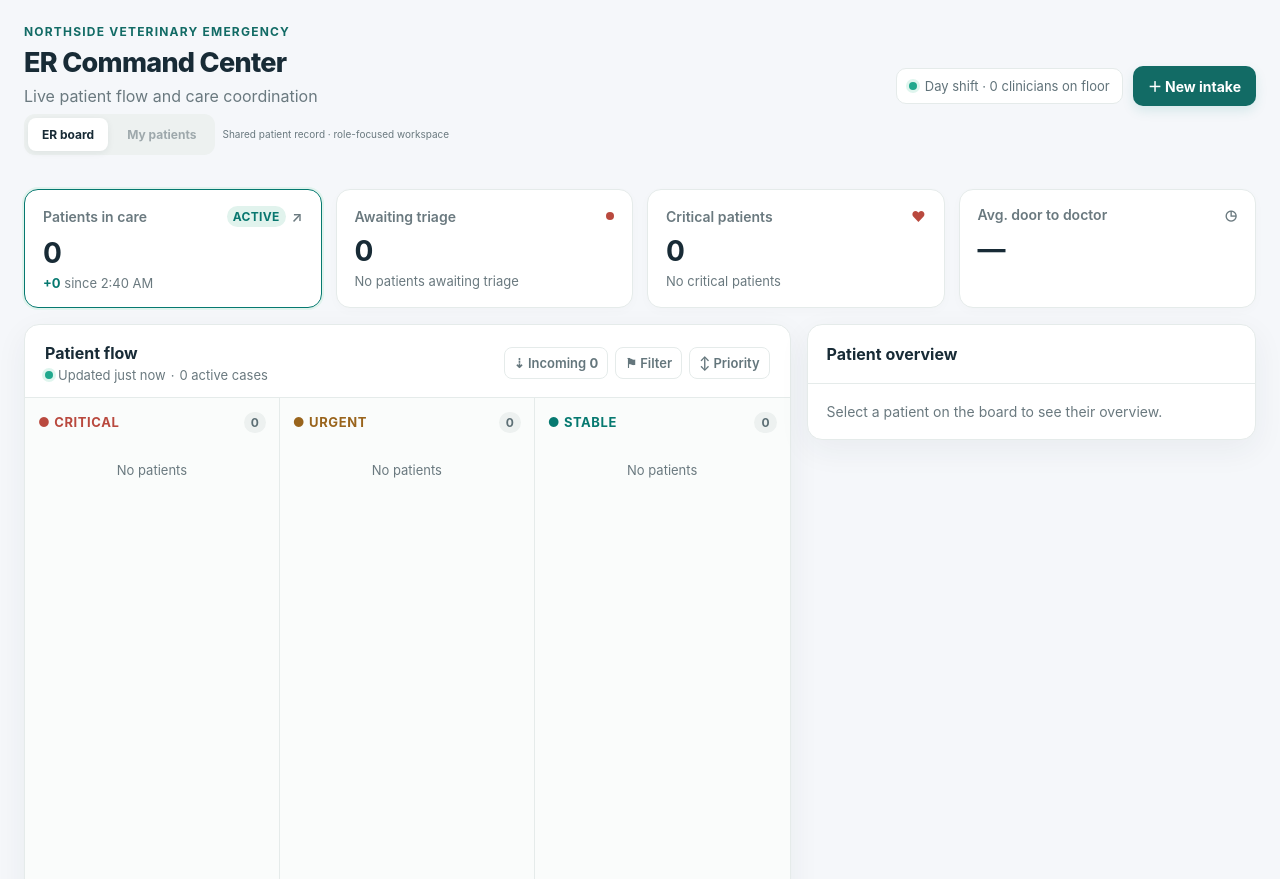
Test: ErBoardPage › adds an intake to the board, selects it and says so
The image size is (1280, 879).
Click the button "＋ New intake".
click(1194, 86)  # box [1133,66,1256,106]
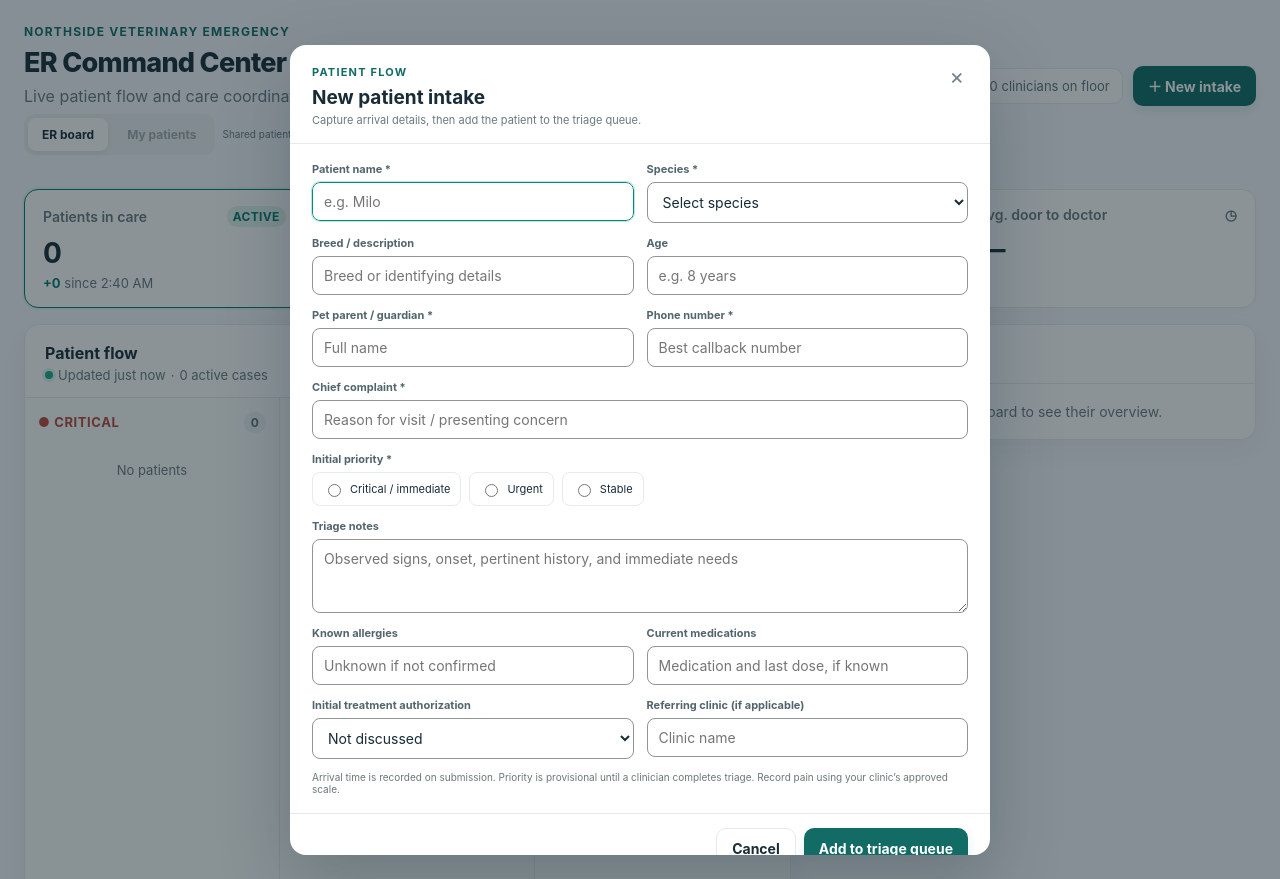
Type "Toby" into the field labelled "Patient name *".
click(473, 202); type("Toby")  # box [312,182,634,221]
Select "Dog" in the dropdown labelled "Species *" at (807, 202), box [646,182,968,223]
Type "Jo Mills" into the field labelled "Pet parent / guardian *".
click(473, 348); type("Jo Mills")  # box [312,328,634,367]
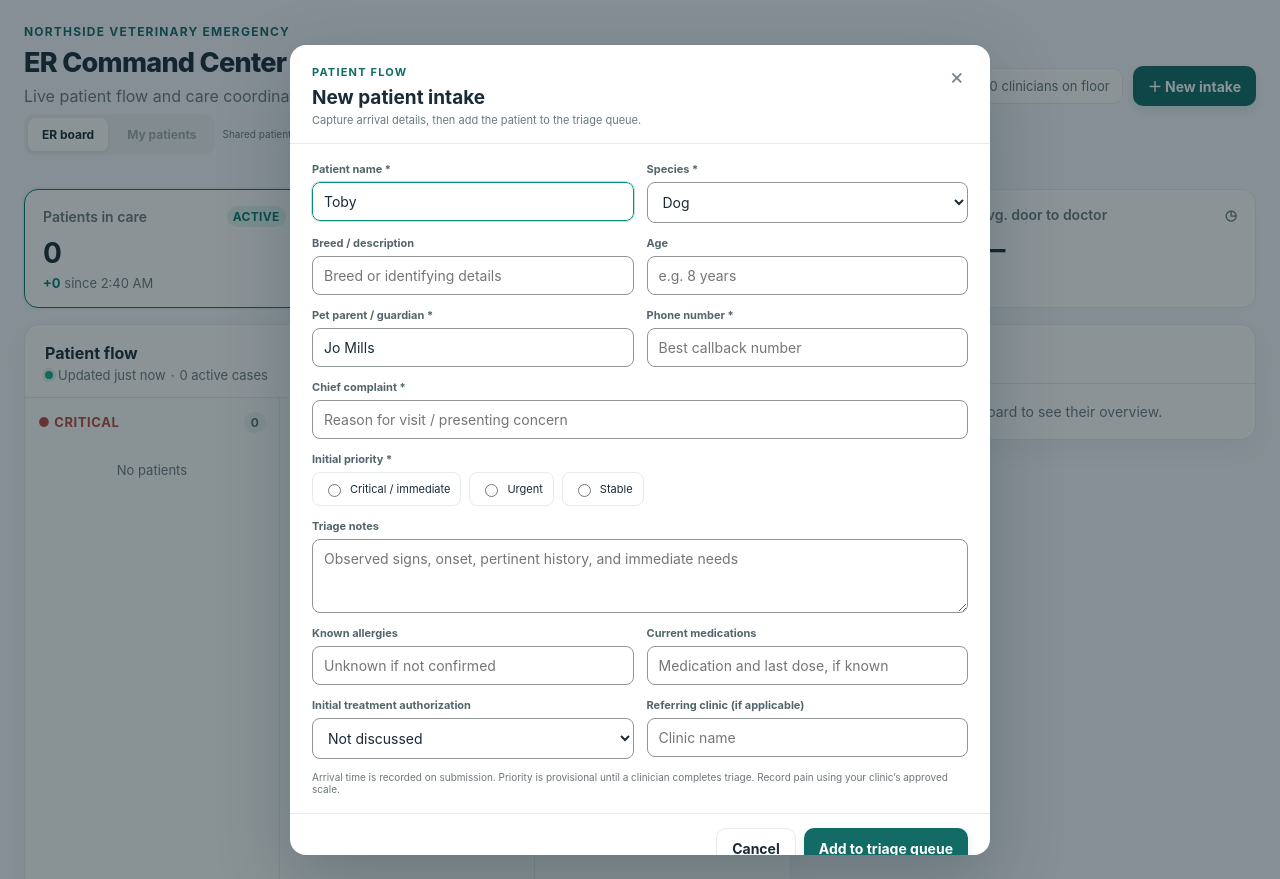
Type "312-555-0177" into the field labelled "Phone number *".
click(807, 348); type("312-555-0177")  # box [646,328,968,367]
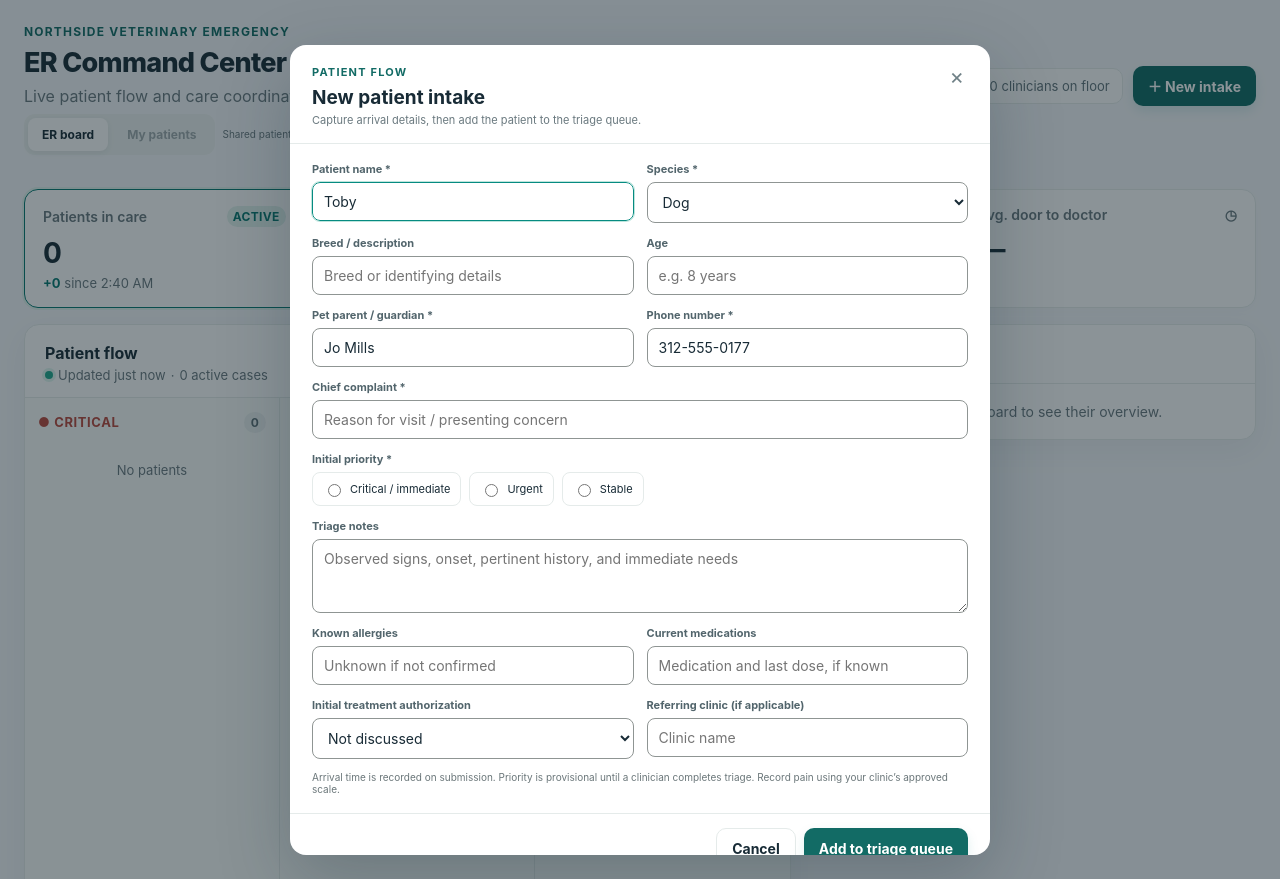
Type "Acute vomiting" into the field labelled "Chief complaint *".
click(640, 420); type("Acute vomiting")  # box [312,400,968,439]
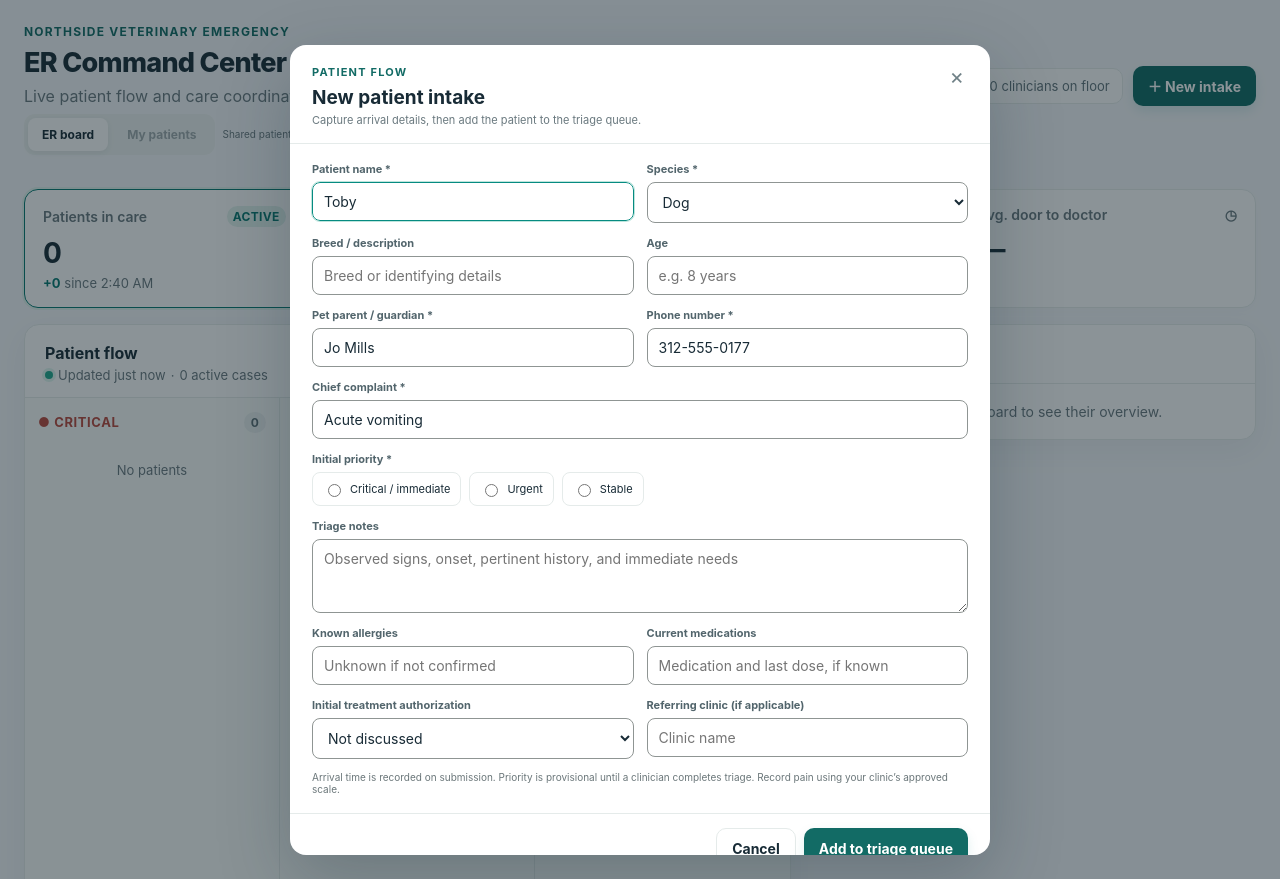
Click the radio button labelled "Urgent".
click(492, 490)  # box [485,484,498,497]
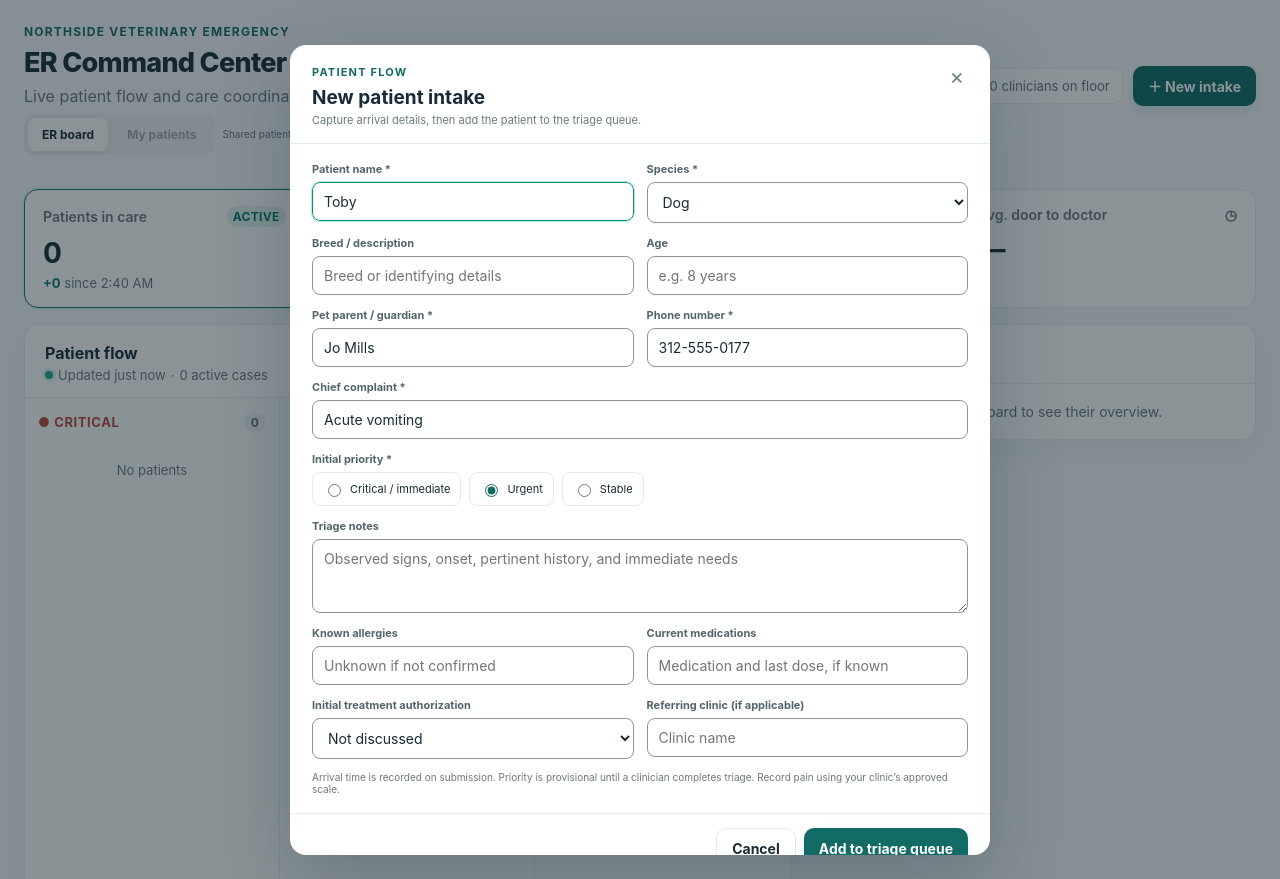
Click the button "Add to triage queue".
click(886, 848)  # box [804,828,968,868]
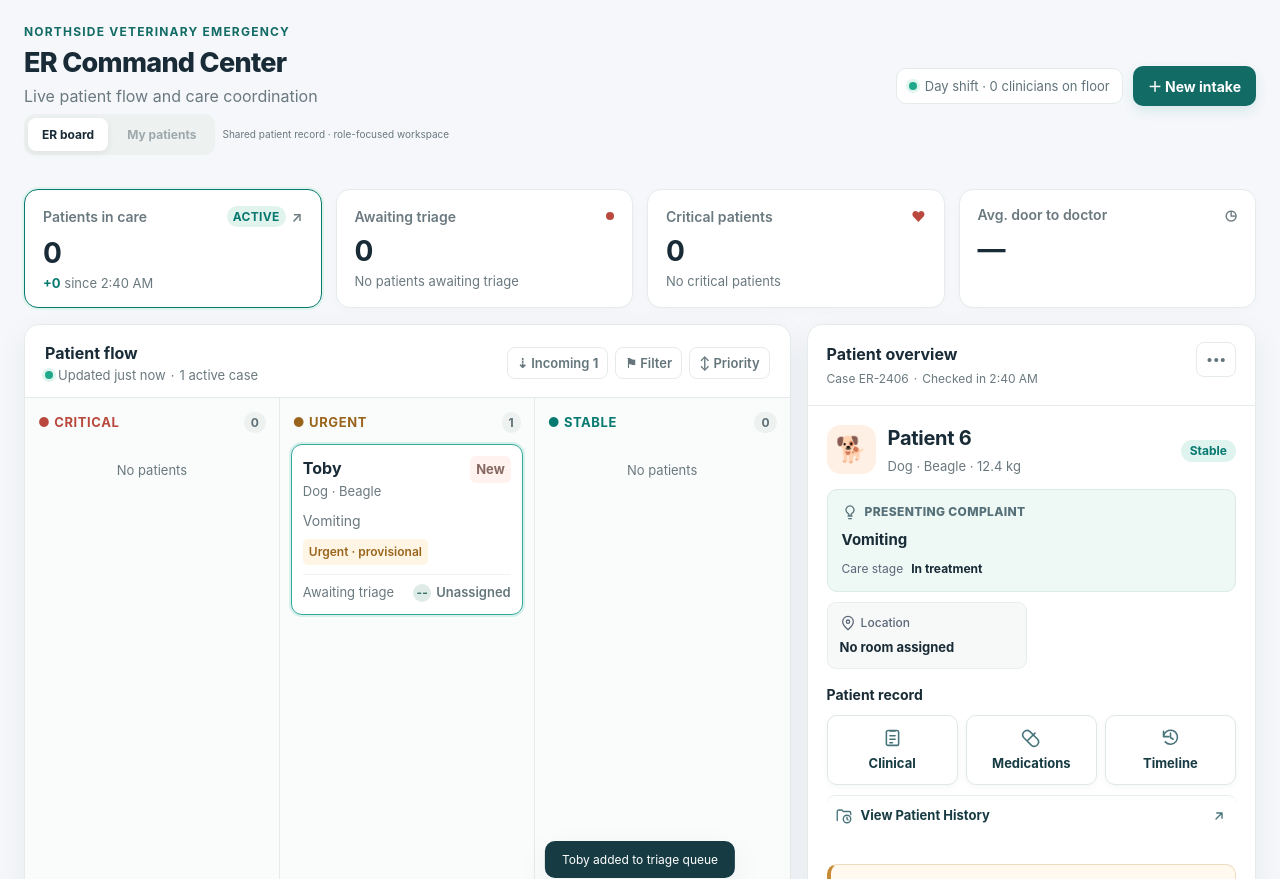
expect the message reads "Toby added to triage queue": met, box [562,852,718,867]
expect the dialog is gone: met
